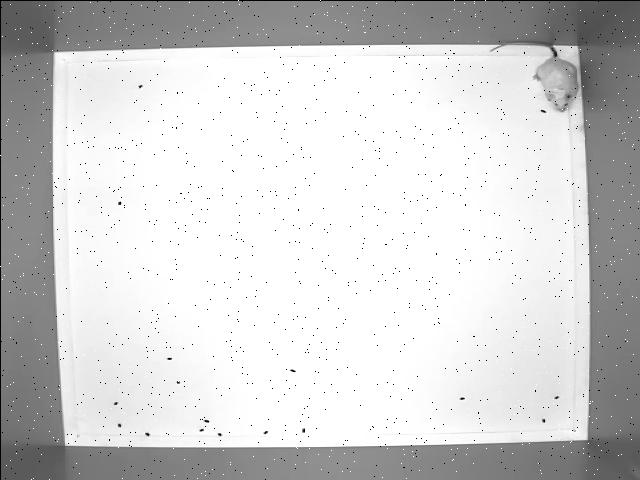Tikus: (490, 44, 578, 112)
